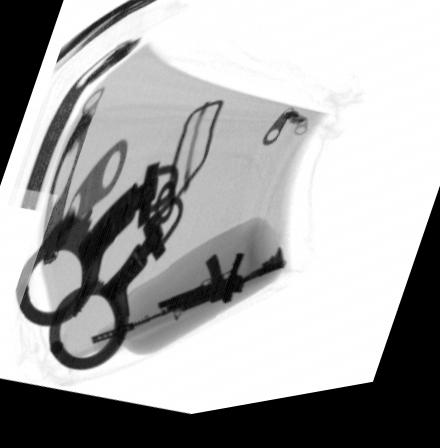Gun: (89, 254, 285, 347)
HandCuffs: (17, 165, 184, 375)
